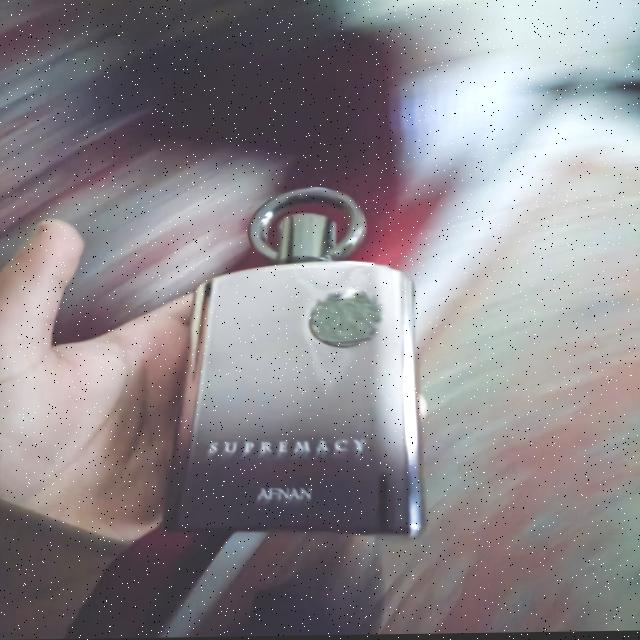Afnan: (160, 185, 427, 543)
